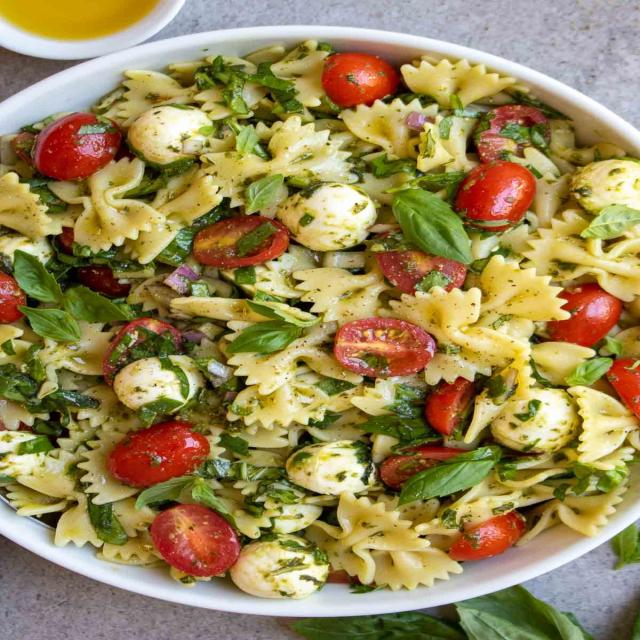pasta: (74, 159, 552, 540)
